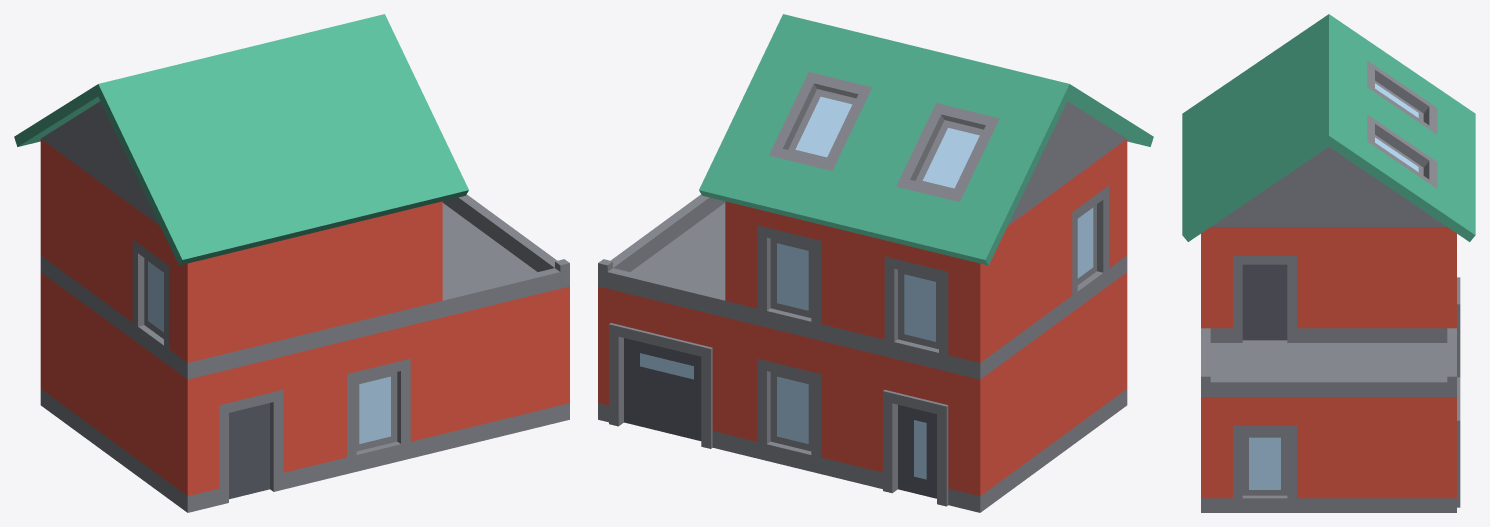
Rendered from house_type18.dae.
3 renders of one model, left to right at view 1: azimuth 30°, elevation 25°; view 2: azimuth 150°, elevation 25°; view 3: azimuth 270°, elevation 25°, orthographic. The views are drawn at different scales.
Parts seen in each view (by area): view 1: house_type18; view 2: house_type18; view 3: house_type18.
Part boxes in pixels (left/top/right/bottom): house_type18: left=14, top=14, right=569, bottom=512; house_type18: left=598, top=14, right=1153, bottom=512; house_type18: left=1182, top=14, right=1475, bottom=512.
Bounding box in the file's own units: 1.25 × 1.14 × 0.916.
